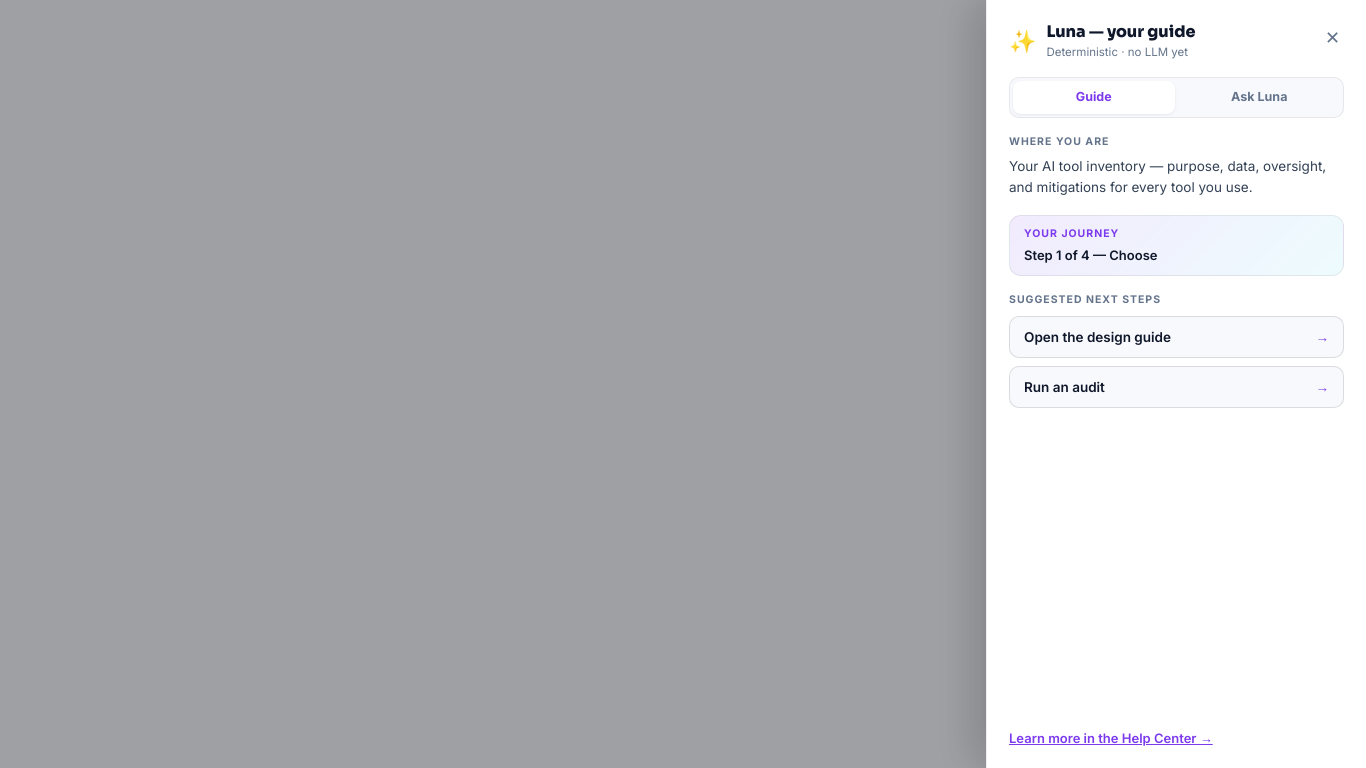
it: LunaPanel (B4) › switches to the deterministic Ask Luna chat tab
The image size is (1366, 768).
Click the button "Ask Luna" at (1259, 98), box top-left (1178, 81), bottom-right (1340, 114)
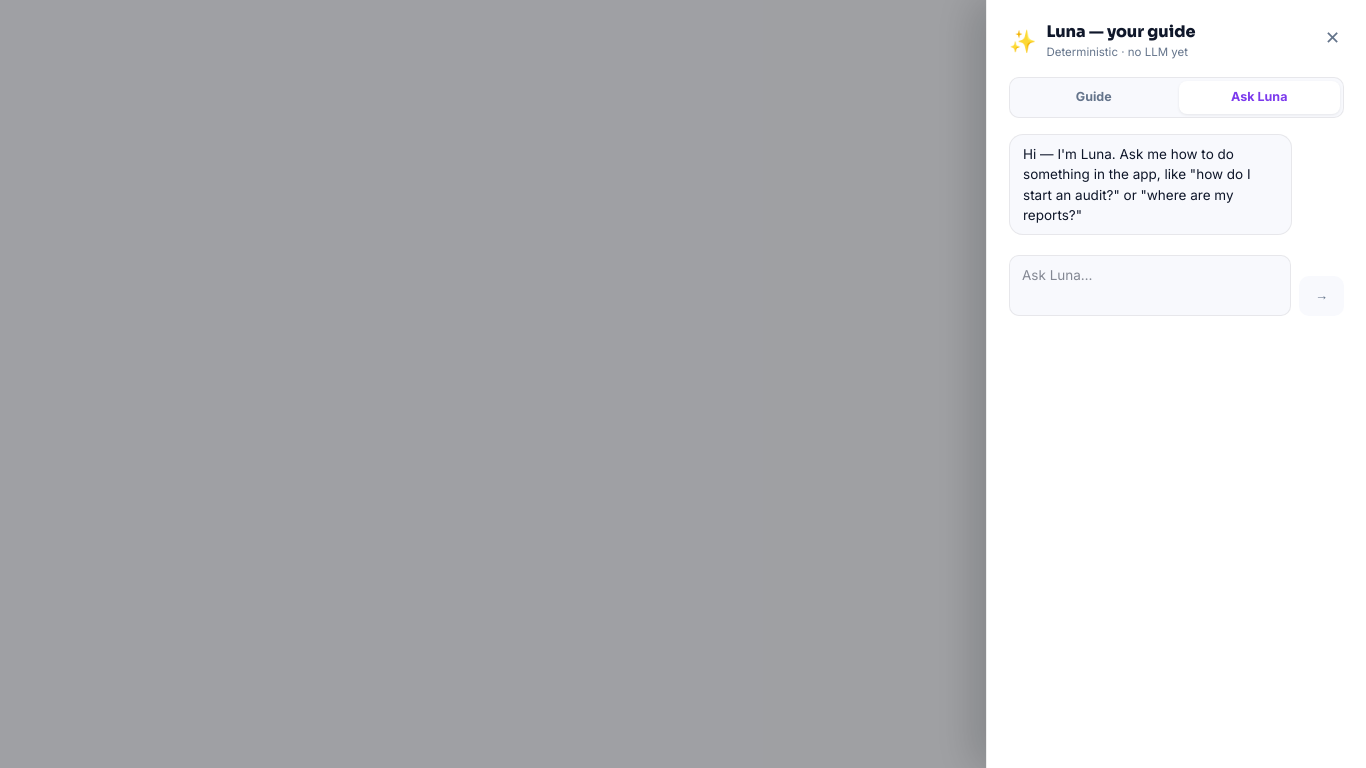
Expected: the text "I'm Luna" is shown, top-left (1023, 146), bottom-right (1251, 223)
Expected: the text box labelled "Ask Luna" is shown, top-left (1009, 255), bottom-right (1291, 316)
